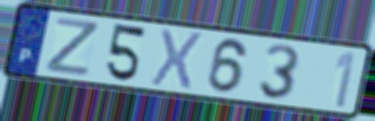1: (333, 50, 359, 111)
3: (257, 43, 303, 101)
5: (104, 22, 147, 83)
6: (206, 36, 250, 96)
X: (148, 26, 207, 93)
Z: (43, 15, 104, 78)
